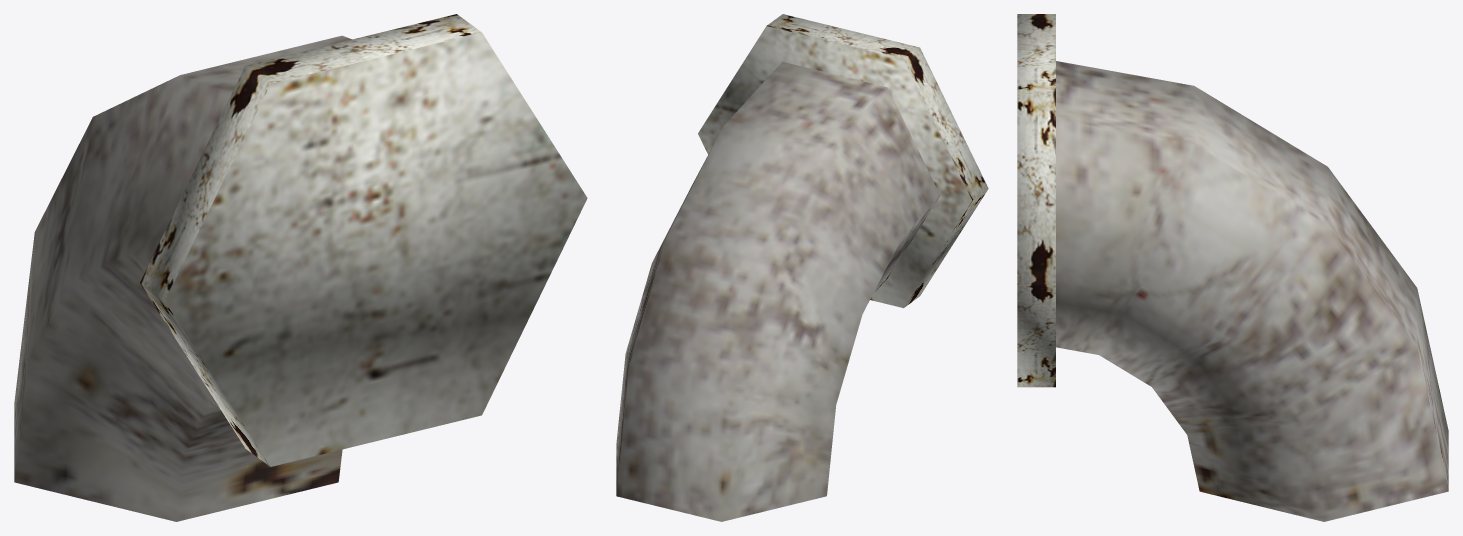
Rendered from large_white_2_elbow.fbx.
3 renders of one model, left to right at view 1: azimuth 30°, elevation 25°; view 2: azimuth 150°, elevation 25°; view 3: azimuth 270°, elevation 25°, orthographic. The views are drawn at different scales.
Parts seen in each view (by area): view 1: polySurface653; view 2: polySurface653; view 3: polySurface653.
Boxes of the visible parts, left/top/right/bottom form: polySurface653: left=14, top=14, right=587, bottom=521; polySurface653: left=616, top=14, right=988, bottom=521; polySurface653: left=1017, top=14, right=1448, bottom=521.
Bounding box in the file's own units: 1.3 × 1.56 × 1.5.
